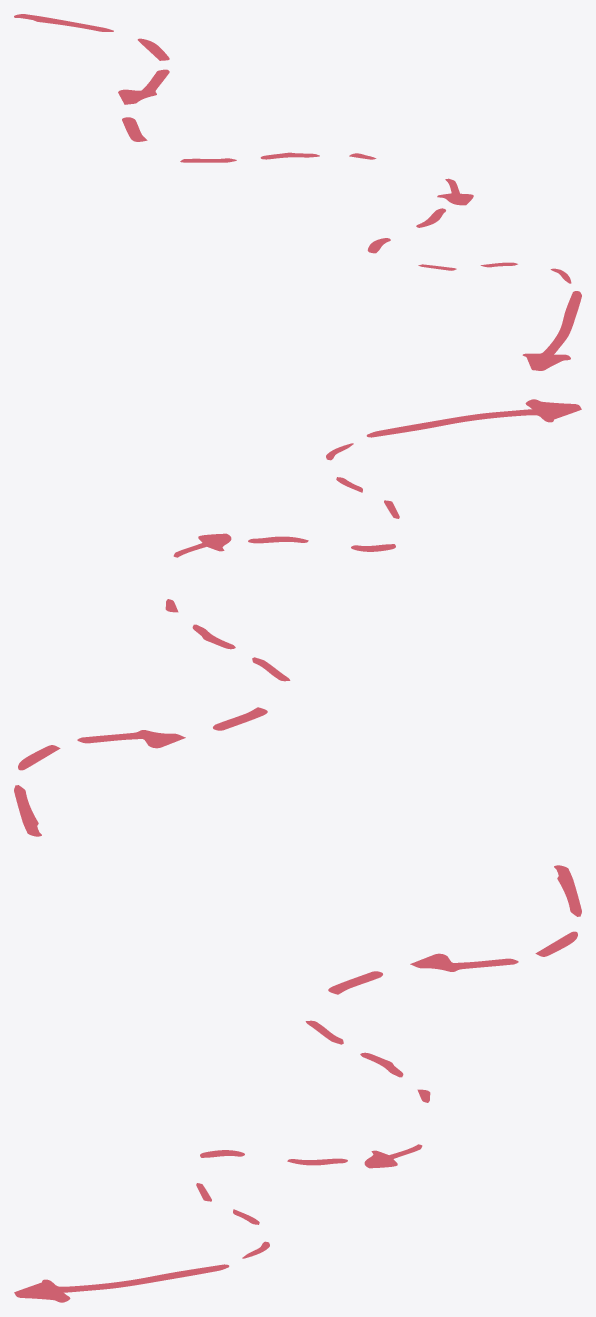
Rendered from lines2v2.dae.
The picture shows the model from 3 angles, top to bottom: view 1: azimuth 30°, elevation 25°; view 2: azimuth 150°, elevation 25°; view 3: azimuth 330°, elevation 25°; orthographic projection. The views are drawn at different scales.
Parts seen in each view (by area): view 1: Curve.017; view 2: Curve.017; view 3: Curve.017.
Part boxes in pixels (left/top/right/bottom): Curve.017: left=14, top=14, right=581, bottom=370; Curve.017: left=14, top=399, right=581, bottom=836; Curve.017: left=14, top=865, right=581, bottom=1302.
Bounding box in the file's own units: 1.6 × 6.86 × 0.
